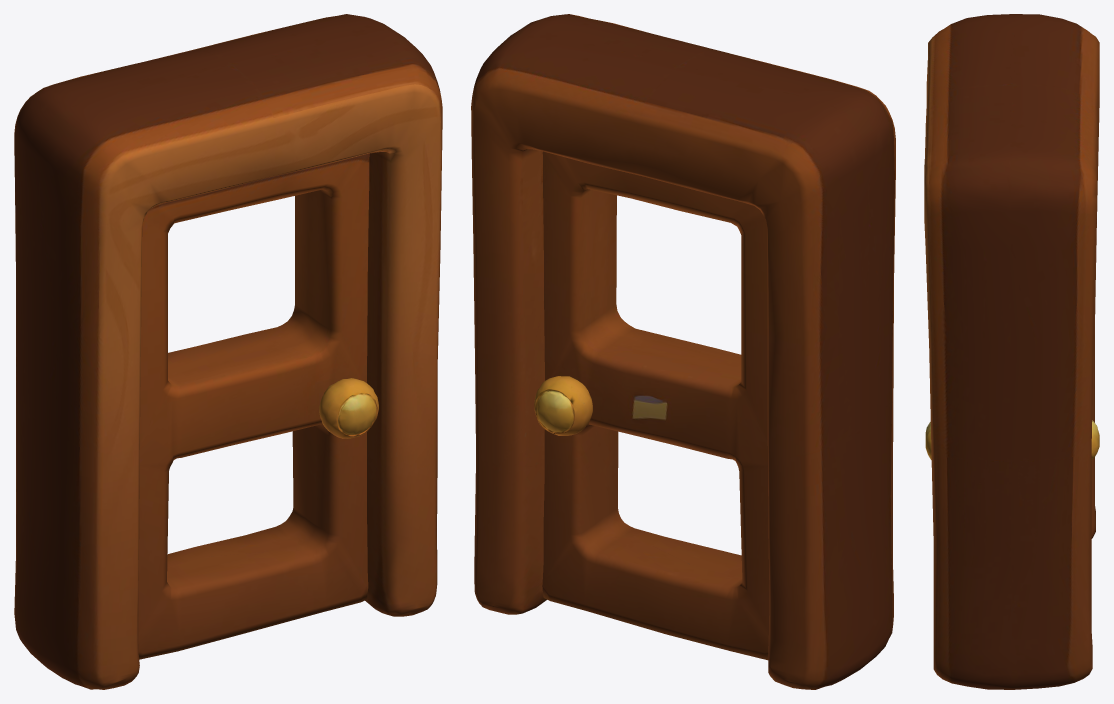
File: selected.glb
The picture shows the model from 3 angles, left to right: view 1: azimuth 30°, elevation 25°; view 2: azimuth 150°, elevation 25°; view 3: azimuth 270°, elevation 25°; orthographic projection. The views are drawn at different scales.
Visible parts, largest first — view 1: tripo_node_1bf42adf-141c-4454-af98-56cfcd8dfd0d; view 2: tripo_node_1bf42adf-141c-4454-af98-56cfcd8dfd0d; view 3: tripo_node_1bf42adf-141c-4454-af98-56cfcd8dfd0d.
Boxes of the visible parts, x1=… form: tripo_node_1bf42adf-141c-4454-af98-56cfcd8dfd0d: x1=14, y1=14, x2=442, y2=689; tripo_node_1bf42adf-141c-4454-af98-56cfcd8dfd0d: x1=471, y1=14, x2=895, y2=689; tripo_node_1bf42adf-141c-4454-af98-56cfcd8dfd0d: x1=924, y1=14, x2=1099, y2=689.
Size of the model in its own units: 0.6934 by 0.998 by 0.2988.
Materials: 1 (1 with a texture image).
